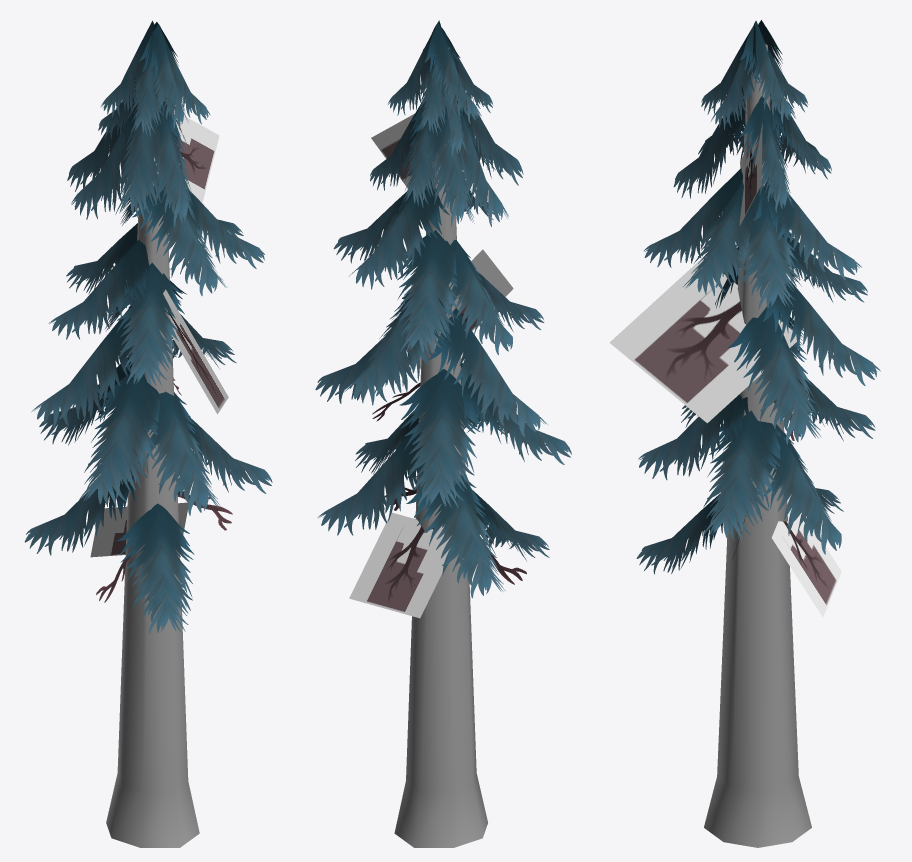
Rendered from Arbol_gordo_3_Final.fbx.
The picture shows the model from 3 angles, left to right: view 1: azimuth 30°, elevation 25°; view 2: azimuth 150°, elevation 25°; view 3: azimuth 270°, elevation 25°; orthographic projection.
Visible parts, largest first — view 1: Arbol_gordo_3; view 2: Arbol_gordo_3; view 3: Arbol_gordo_3.
Boxes of the visible parts, x1,y1,x2,y2 form: Arbol_gordo_3: (24, 20, 272, 847); Arbol_gordo_3: (315, 20, 571, 847); Arbol_gordo_3: (609, 20, 880, 847).
Size of the model in its own units: 1211 by 3880 by 1245.
